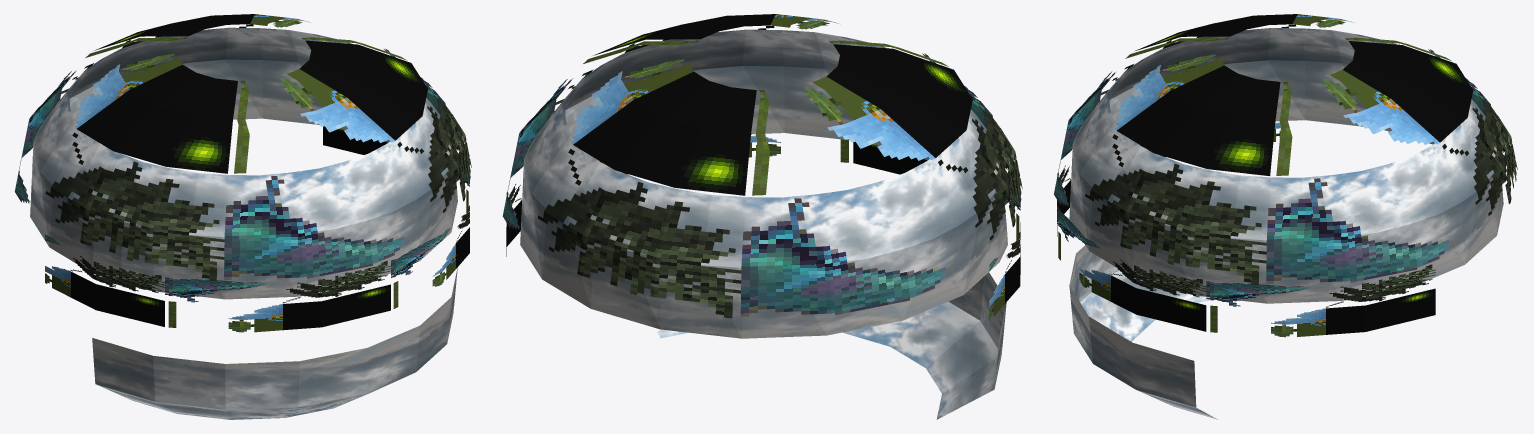
3 views of the same model, side by side, from view 1: azimuth 30°, elevation 25°; view 2: azimuth 150°, elevation 25°; view 3: azimuth 270°, elevation 25° (orthographic). The views are drawn at different scales.
Visible parts, largest first — view 1: mesh00; view 2: mesh00; view 3: mesh00.
Part boxes in pixels (x1=…): mesh00: x1=14, y1=14, x2=471, y2=419; mesh00: x1=502, y1=14, x2=1022, y2=419; mesh00: x1=1054, y1=14, x2=1517, y2=419.
Bounding box in the file's own units: 98017 × 70899 × 98016.
